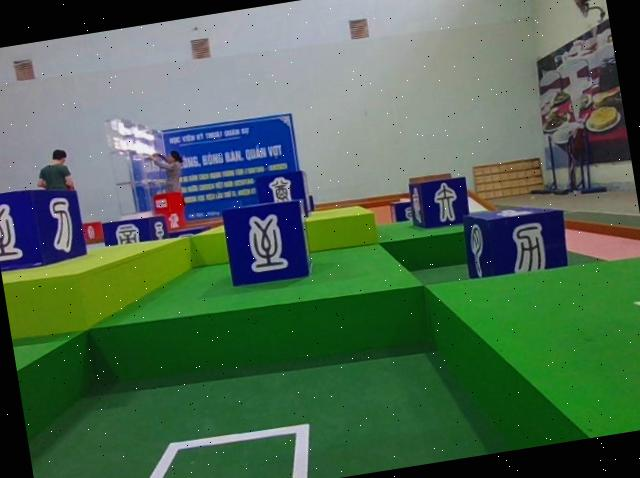R2 Fake Blue: (461, 199, 574, 281), (220, 200, 314, 293), (0, 181, 89, 275), (408, 178, 473, 235), (254, 172, 310, 220), (104, 213, 170, 249)
